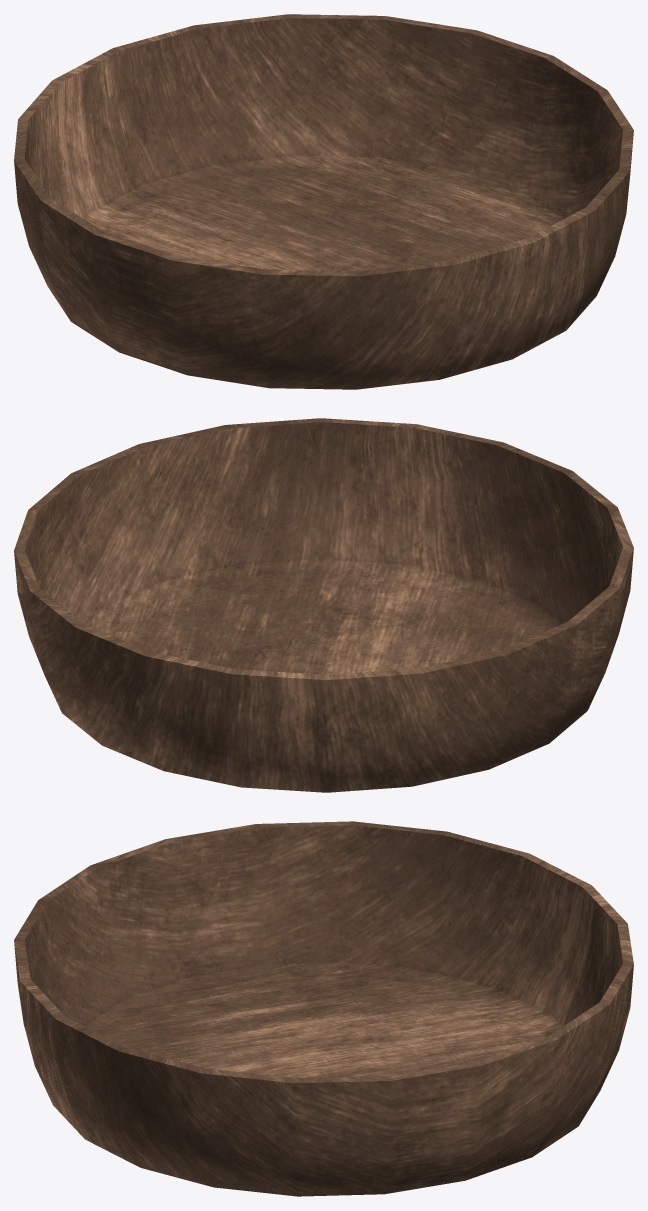
File: viking_tea_party_-_bowl.glb
The picture shows the model from 3 angles, top to bottom: view 1: azimuth 30°, elevation 25°; view 2: azimuth 150°, elevation 25°; view 3: azimuth 270°, elevation 25°; orthographic projection.
Parts seen in each view (by area): view 1: Pot2; view 2: Pot2; view 3: Pot2.
Boxes of the visible parts, box(x1,y1,x2,y2) form: Pot2: box(14, 14, 633, 389); Pot2: box(14, 418, 633, 792); Pot2: box(14, 821, 633, 1196).
Size of the model in its own units: 2 by 0.4778 by 2.
1 material, 1 textured.
